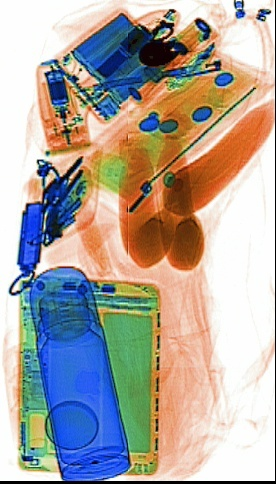powerbank: (51, 3, 176, 125)
